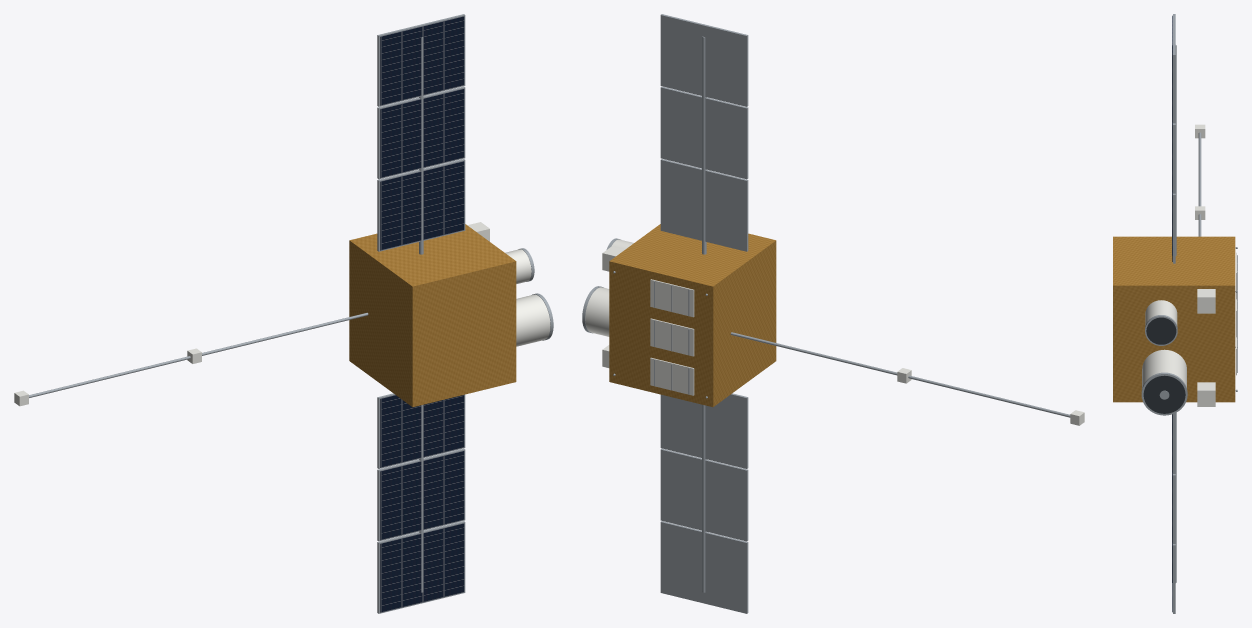
Rendered from aditya-l1-source.glb.
The picture shows the model from 3 angles, left to right: view 1: azimuth 30°, elevation 25°; view 2: azimuth 150°, elevation 25°; view 3: azimuth 270°, elevation 25°; orthographic projection. The views are drawn at different scales.
Visible parts, largest first — view 1: Solar cells (×6), Spacecraft bus, Solar array frame (×5), VELC coronagraph thermal tube, Magnetometer deployed boom; view 2: Solar array frame (×6), Spacecraft bus, Radiator tile (×3), Array support (×2), Magnetometer deployed boom, VELC coronagraph thermal tube; view 3: Spacecraft bus, VELC coronagraph aperture, Solar array frame (×5), Array support (×2), VELC coronagraph thermal tube, Sunward instrument housing (×2), SUIT telescope aperture, SUIT telescope thermal tube, VELC coronagraph aperture rim, Magnetometer deployed boom, SUIT telescope aperture rim.
Part boxes in pixels (x1,y1,x2,y2): Solar cells (×6): (380,16,464,612); Spacecraft bus: (349,224,516,407); Solar array frame (×5): (377,14,465,613); VELC coronagraph thermal tube: (516,294,550,346); Magnetometer deployed boom: (29,312,368,397); Solar array frame (×6): (660,14,748,613); Spacecraft bus: (609,224,776,407); Radiator tile (×3): (650,279,694,395); Array support (×2): (702,36,706,592); Magnetometer deployed boom: (730,332,1070,417); VELC coronagraph thermal tube: (585,287,609,336); Spacecraft bus: (1113,236,1235,402); VELC coronagraph aperture: (1143,375,1185,413); Solar array frame (×5): (1173,14,1175,613); Array support (×2): (1172,45,1176,582); VELC coronagraph thermal tube: (1142,349,1186,388); Sunward instrument housing (×2): (1197,289,1215,406); SUIT telescope aperture: (1146,317,1176,344); SUIT telescope thermal tube: (1145,300,1177,325); VELC coronagraph aperture rim: (1141,372,1187,415); Magnetometer deployed boom: (1198,132,1201,236); SUIT telescope aperture rim: (1145,315,1177,345).
Bounding box in the file's own units: 8.8 × 9.57 × 1.94.
Materials: 5 (2 with a texture image).
